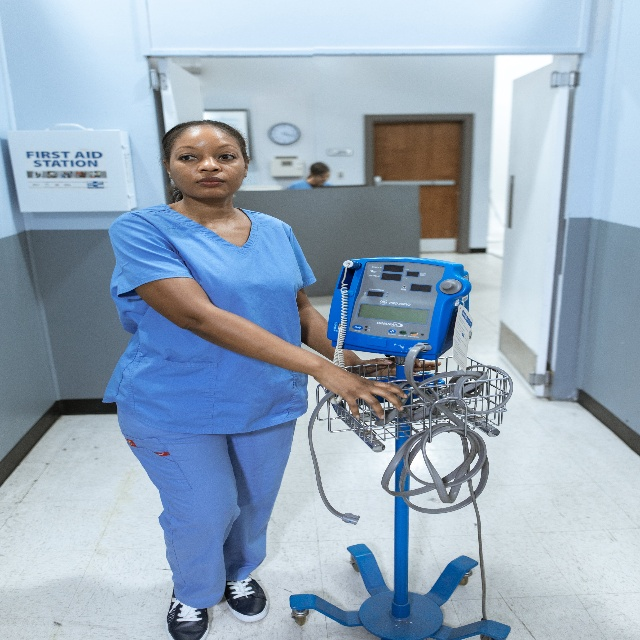Sin_guantes: (325, 358, 407, 423)
